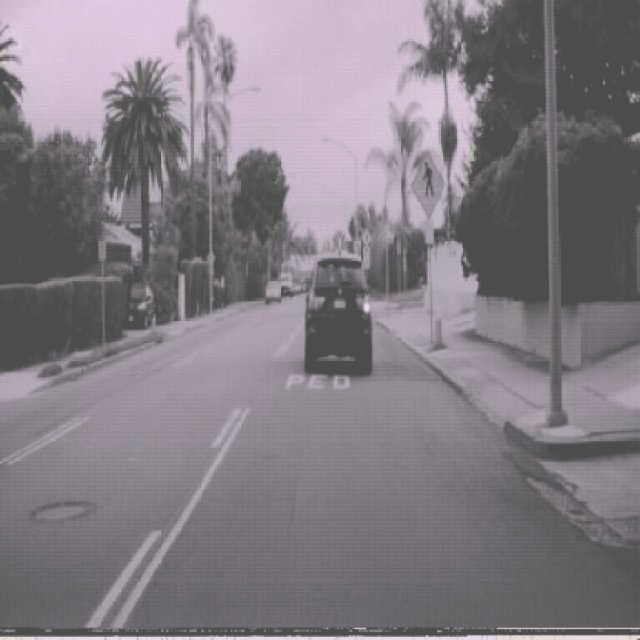pedestrianCrossing: (411, 149, 446, 219)
